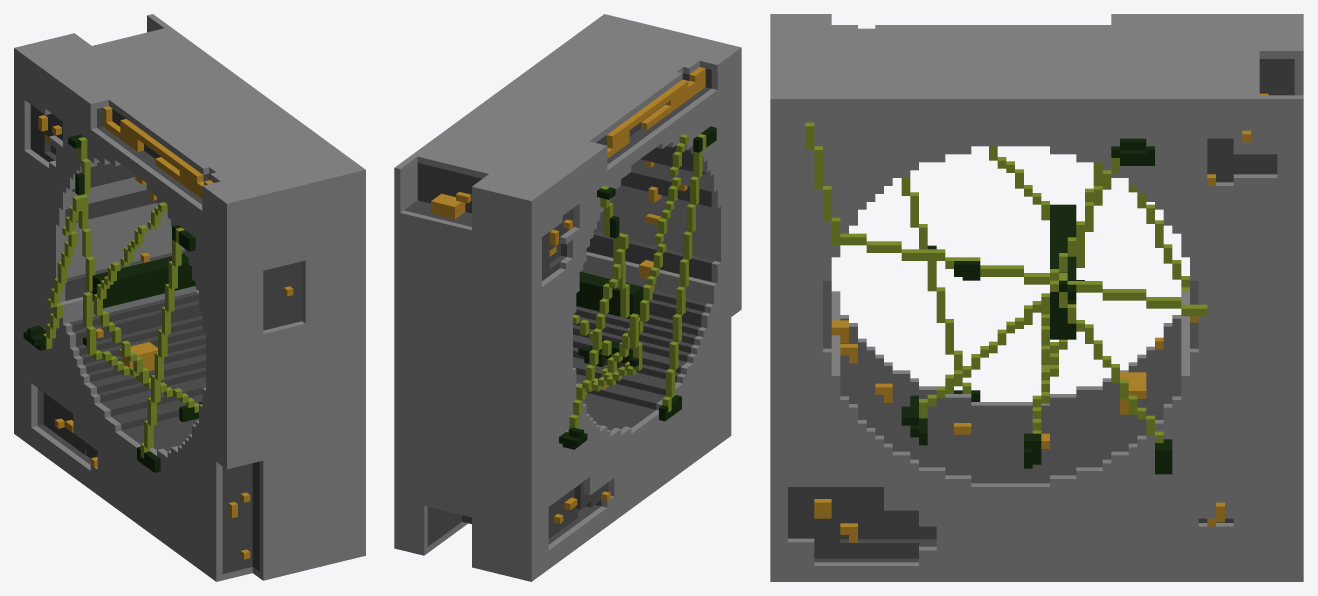
File: Stena2.obj
3 views of the same model, side by side, from view 1: azimuth 30°, elevation 25°; view 2: azimuth 150°, elevation 25°; view 3: azimuth 270°, elevation 25° (orthographic). The views are drawn at different scales.
Size of the model in its own units: 2.9 by 6.1 by 6.1.
Materials: 1 (1 with a texture image).
